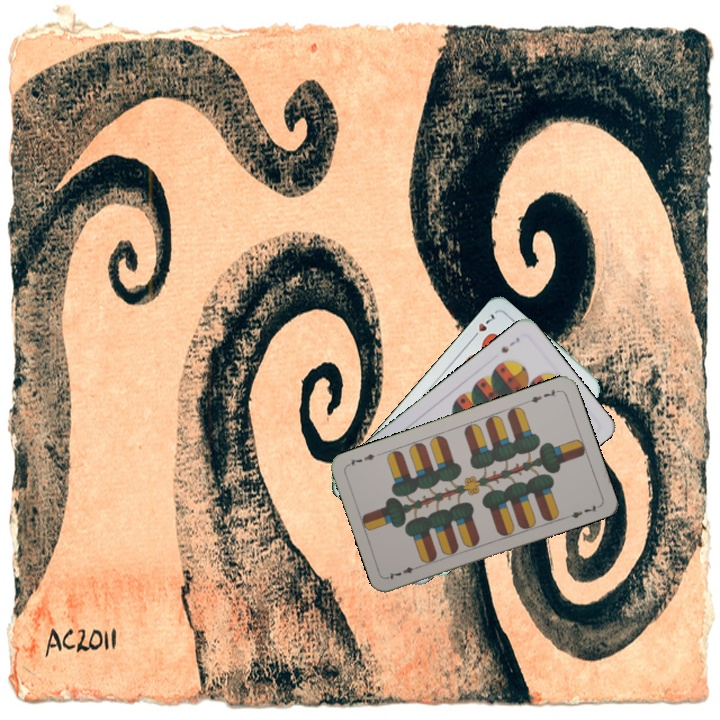E7: (522, 385, 562, 406), (384, 561, 424, 582)
H7: (467, 309, 497, 343)
S7: (497, 333, 522, 355)
